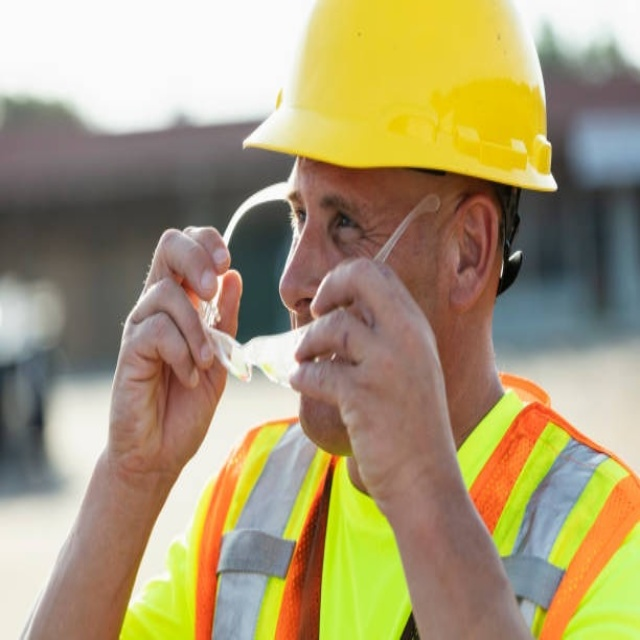Sin_gafas: (288, 162, 387, 242)
Sin_guantes: (286, 245, 449, 502), (105, 221, 242, 483)
